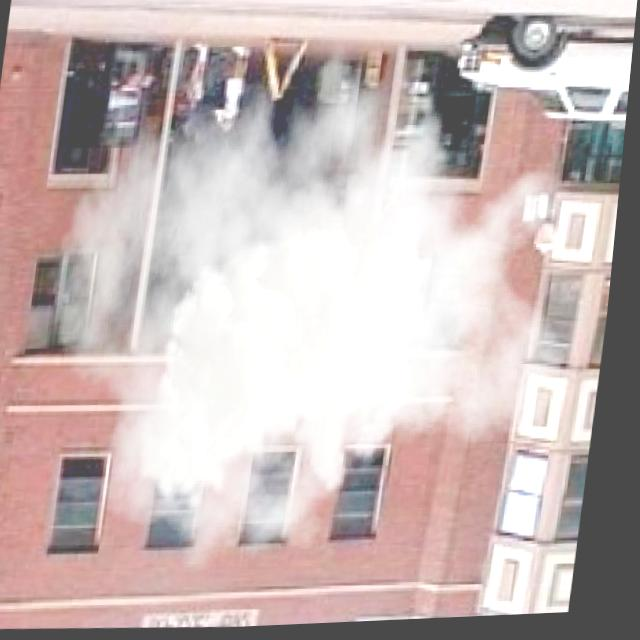Smoke: (27, 20, 613, 575)
